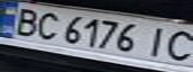1: (78, 16, 100, 48)
6: (115, 20, 142, 54), (57, 14, 84, 45)
7: (96, 18, 121, 51)
B: (6, 6, 45, 37)
C: (160, 28, 193, 63), (30, 10, 63, 42)
I: (139, 24, 175, 58)
